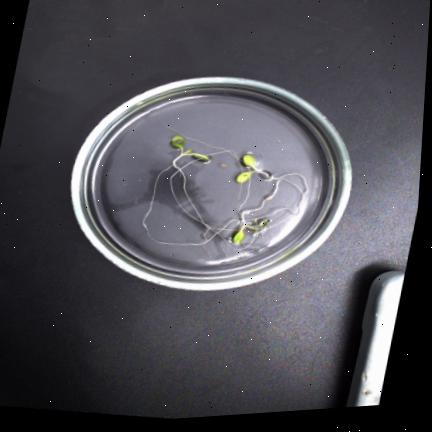leaf1: (241, 154, 255, 168)
leaf2: (235, 171, 254, 183)
leaf3: (232, 226, 243, 243)
leaf4: (245, 221, 267, 229)
leaf5: (183, 152, 208, 160)
leaf6: (170, 136, 185, 148)
leaf7: (185, 149, 191, 153)
root1: (168, 155, 308, 234), (206, 150, 242, 199)
root2: (141, 164, 303, 245)
root3: (156, 115, 256, 258)
stem1: (253, 167, 268, 176)
stem2: (241, 209, 249, 226)
stem3: (171, 149, 185, 168)
